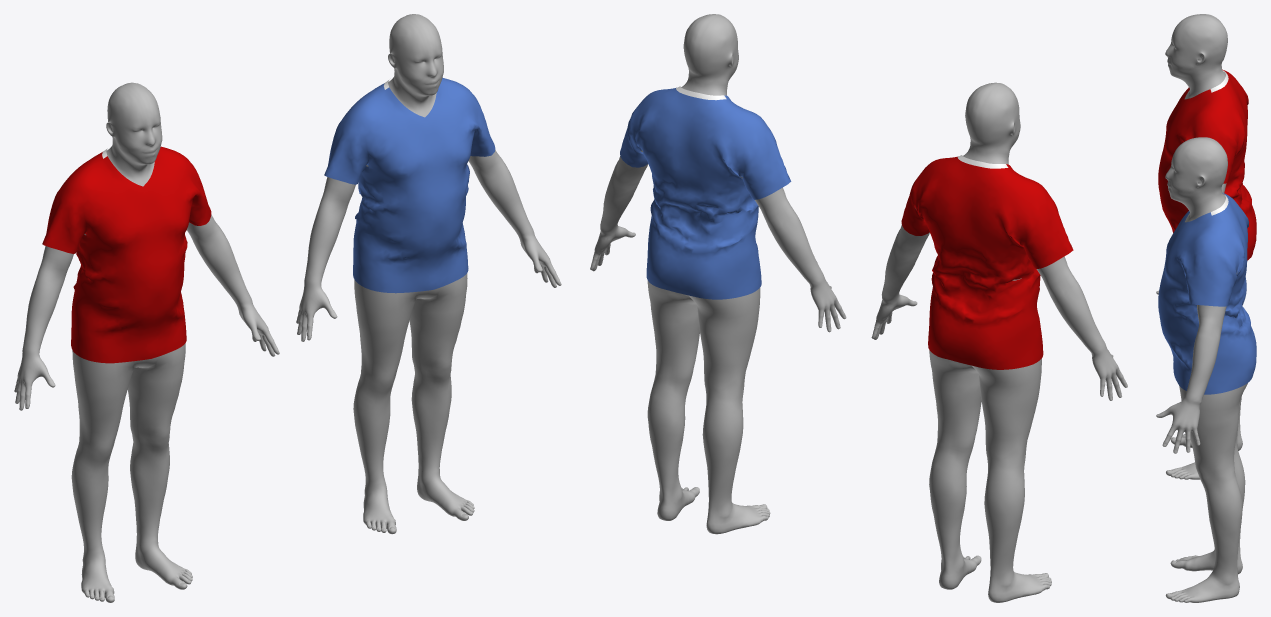
Rendered from compare.gltf.
3 renders of one model, left to right at view 1: azimuth 30°, elevation 25°; view 2: azimuth 150°, elevation 25°; view 3: azimuth 270°, elevation 25°, orthographic. The views are drawn at different scales.
Parts seen in each view (by area): view 1: Node (×4); view 2: Node (×4); view 3: Node (×4).
Boxes of the visible parts, x1=… form: Node (×4): x1=14, y1=14, x2=561, y2=602; Node (×4): x1=590, y1=14, x2=1127, y2=602; Node (×4): x1=1156, y1=14, x2=1256, y2=602.
Size of the model in its own units: 1883 by 1692 by 344.
